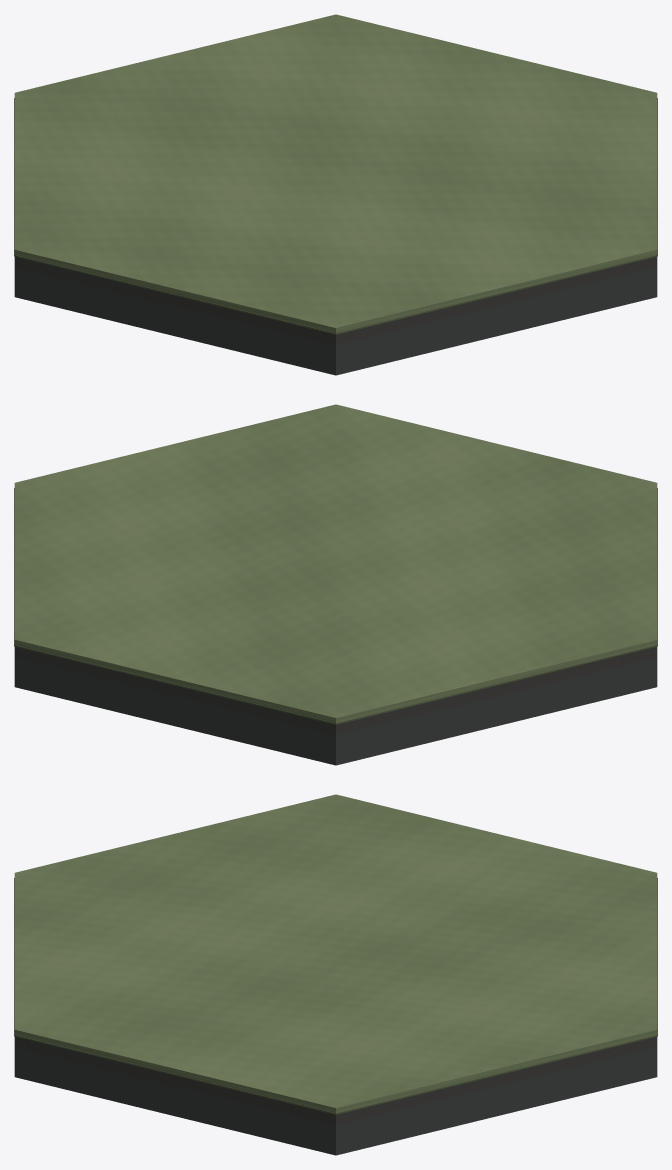
File: forest_hex_meadow.glb
The picture shows the model from 3 angles, top to bottom: view 1: azimuth 30°, elevation 25°; view 2: azimuth 150°, elevation 25°; view 3: azimuth 270°, elevation 25°; orthographic projection.
Visible parts, largest first — view 1: Standard hex meadow top, Standard hex stone foundation, Standard hex earth layer, Thin meadow rim shadow.003, Thin meadow rim shadow.004; view 2: Standard hex meadow top, Standard hex stone foundation, Standard hex earth layer, Thin meadow rim shadow.001, Thin meadow rim shadow.002; view 3: Standard hex meadow top, Standard hex stone foundation, Standard hex earth layer, Thin meadow rim shadow, Thin meadow rim shadow.005.
Part boxes in pixels (bbox=[...]): Standard hex meadow top: bbox=[14, 14, 657, 333]; Standard hex stone foundation: bbox=[14, 267, 657, 375]; Standard hex earth layer: bbox=[14, 256, 657, 344]; Thin meadow rim shadow.003: bbox=[14, 255, 335, 334]; Thin meadow rim shadow.004: bbox=[336, 255, 657, 334]; Standard hex meadow top: bbox=[14, 404, 657, 723]; Standard hex stone foundation: bbox=[14, 657, 657, 765]; Standard hex earth layer: bbox=[14, 646, 657, 734]; Thin meadow rim shadow.001: bbox=[14, 645, 335, 724]; Thin meadow rim shadow.002: bbox=[336, 645, 657, 724]; Standard hex meadow top: bbox=[14, 794, 657, 1113]; Standard hex stone foundation: bbox=[14, 1047, 657, 1155]; Standard hex earth layer: bbox=[14, 1036, 657, 1124]; Thin meadow rim shadow: bbox=[336, 1035, 657, 1114]; Thin meadow rim shadow.005: bbox=[14, 1035, 335, 1114].
Bounding box in the file's own units: 5.11 × 0.36 × 4.42.
4 materials, 2 textured.
